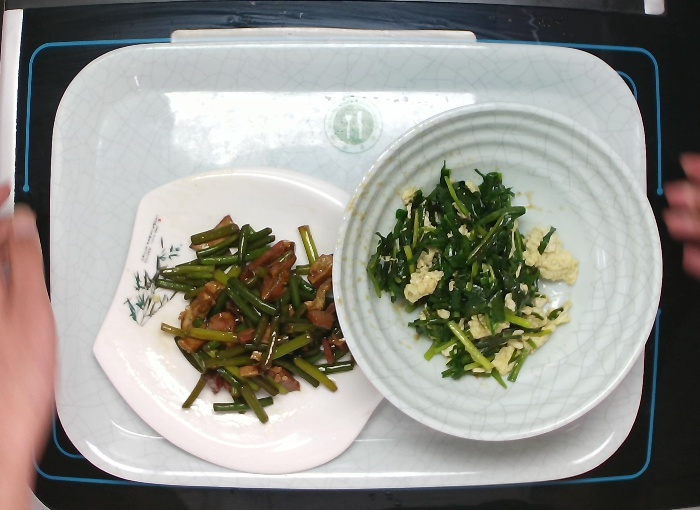JYsf-Da_Tang_Wan: (328, 96, 669, 446)
JYsf-Mian_Pan: (87, 161, 390, 476)
